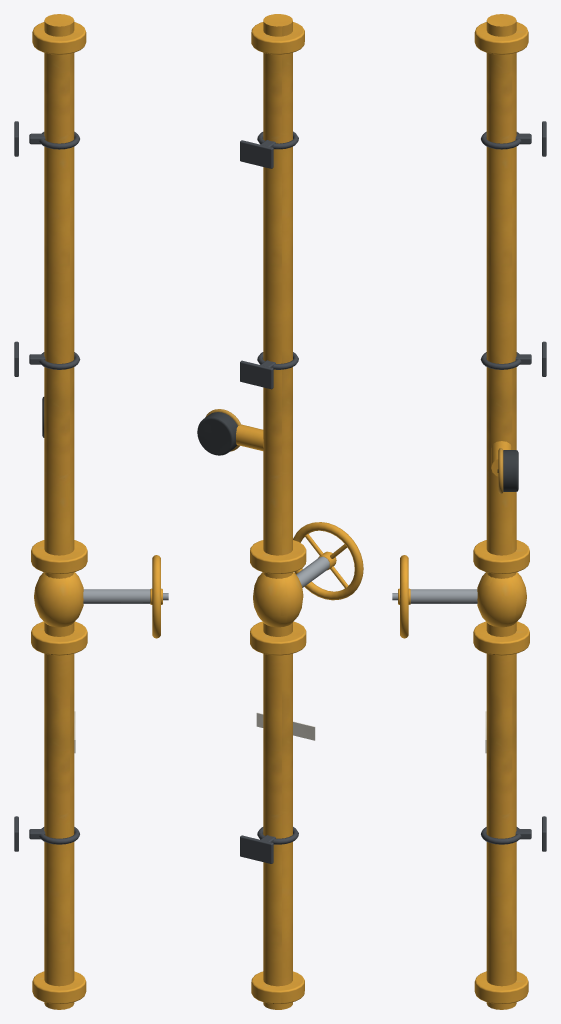
The model's file is PipeRiserMustard.glb.
3 renders of one model, left to right at view 1: azimuth 90°, elevation 25°; view 2: azimuth 150°, elevation 25°; view 3: azimuth 270°, elevation 25°, orthographic.
Visible parts, largest first — view 1: PipeRiserMustard_Body, PipeRiserMustard_Valve; view 2: PipeRiserMustard_Body, PipeRiserMustard_Valve; view 3: PipeRiserMustard_Body, PipeRiserMustard_Valve.
Part boxes in pixels (x1=…): PipeRiserMustard_Body: x1=14, y1=14, x2=150, y2=1009; PipeRiserMustard_Valve: x1=150, y1=555, x2=168, y2=638; PipeRiserMustard_Body: x1=197, y1=14, x2=329, y2=1009; PipeRiserMustard_Valve: x1=293, y1=522, x2=363, y2=600; PipeRiserMustard_Body: x1=410, y1=14, x2=546, y2=1009; PipeRiserMustard_Valve: x1=392, y1=555, x2=410, y2=638.
Bounding box in the file's own units: 0.3436 × 2.9 × 0.412.
9 materials, 5 textured.
